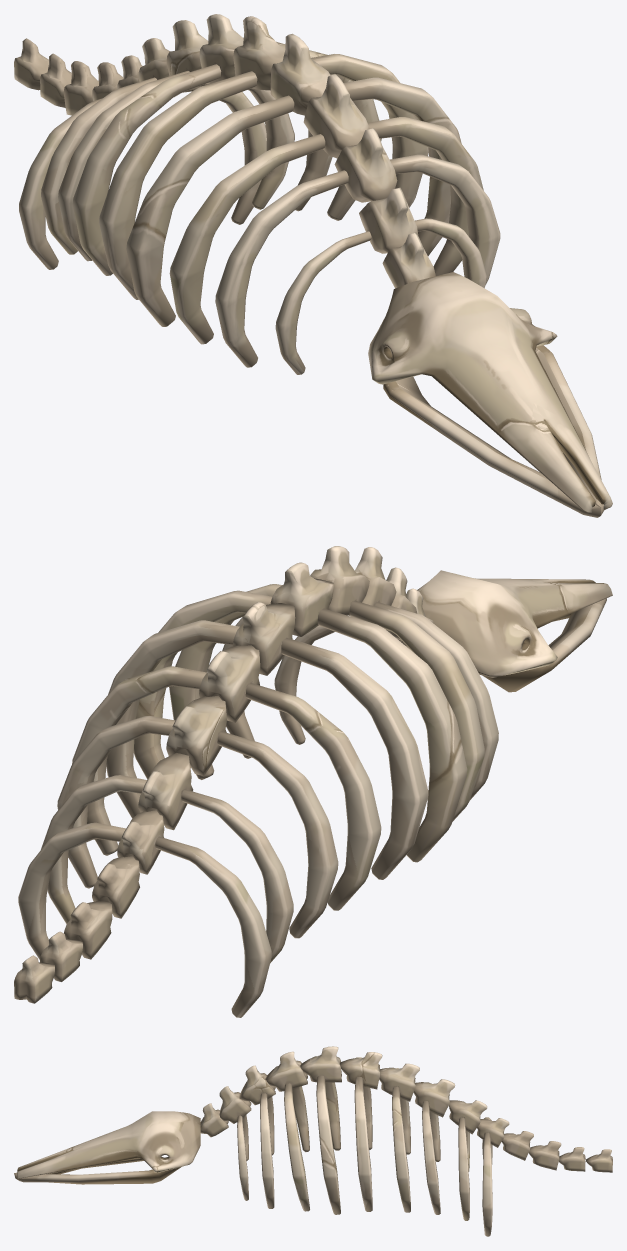
Rendered from SM_Whalefall_00.fbx.
3 views of the same model, one above another, from view 1: azimuth 30°, elevation 25°; view 2: azimuth 150°, elevation 25°; view 3: azimuth 270°, elevation 25° (orthographic). The views are drawn at different scales.
Visible parts, largest first — view 1: Whalefall.047; view 2: Whalefall.047; view 3: Whalefall.047.
Boxes of the visible parts, bbox=[...] form: Whalefall.047: bbox=[14, 14, 612, 517]; Whalefall.047: bbox=[14, 546, 612, 1017]; Whalefall.047: bbox=[14, 1046, 612, 1236].
Bounding box in the file's own units: 663 × 610 × 1998.
